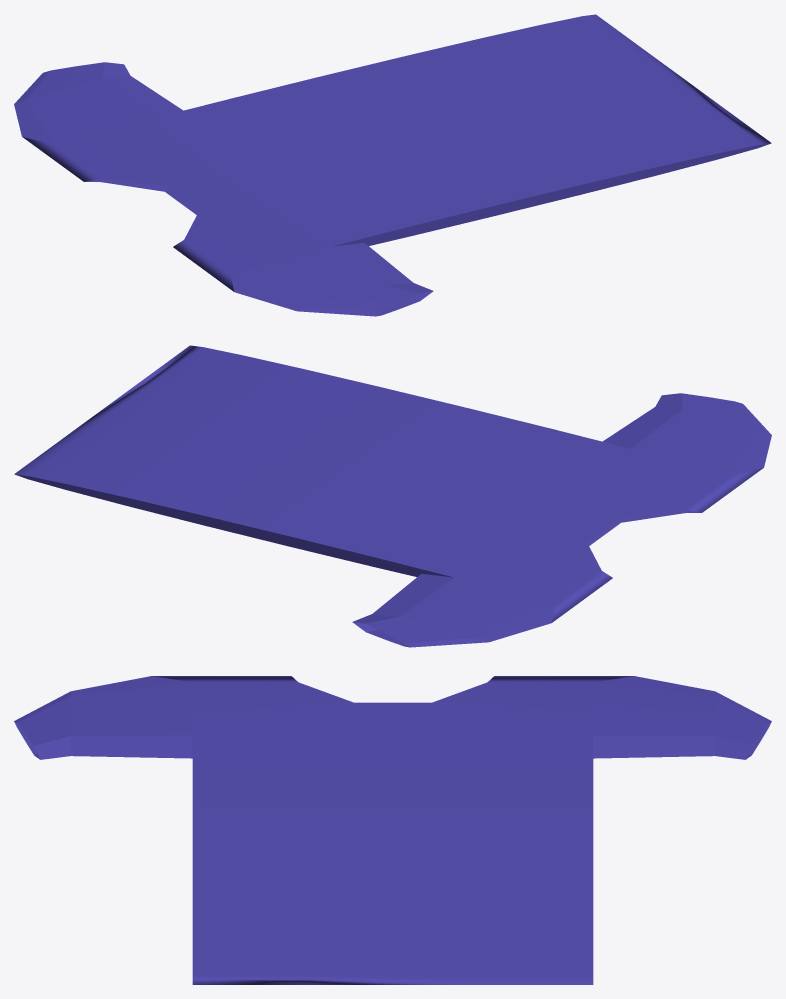
Rendered from Shirt.fbx.
The picture shows the model from 3 angles, top to bottom: view 1: azimuth 30°, elevation 25°; view 2: azimuth 150°, elevation 25°; view 3: azimuth 270°, elevation 25°; orthographic projection. The views are drawn at different scales.
Parts seen in each view (by area): view 1: pCylinder1; view 2: pCylinder1; view 3: pCylinder1.
Boxes of the visible parts, x1=… form: pCylinder1: x1=14, y1=14, x2=771, y2=316; pCylinder1: x1=14, y1=345, x2=771, y2=647; pCylinder1: x1=14, y1=676, x2=771, y2=984.
Size of the model in its own units: 10.2 by 0.181 by 10.58.
